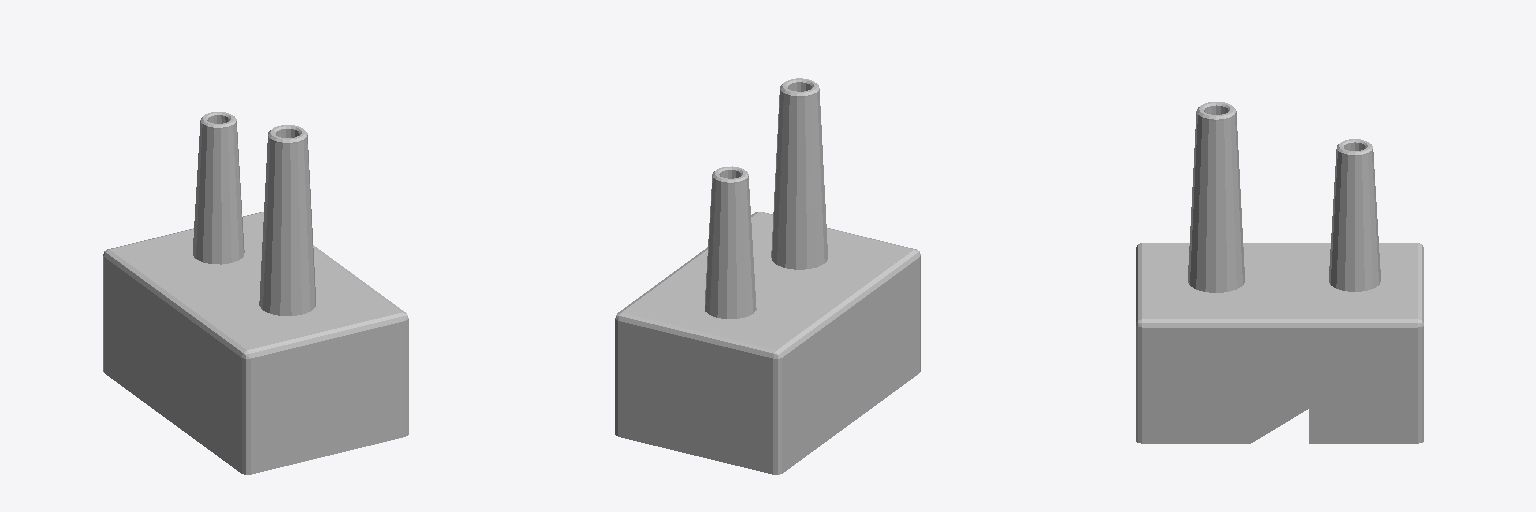
File: coal_generator.obj
3 renders of one model, left to right at view 1: azimuth 30°, elevation 25°; view 2: azimuth 150°, elevation 25°; view 3: azimuth 270°, elevation 25°, orthographic.
Visible parts, largest first — view 1: Cube; view 2: Cube; view 3: Cube.
Boxes of the visible parts, box(x1,y1,x2,y2) form: Cube: box(103, 112, 408, 474); Cube: box(615, 78, 920, 474); Cube: box(1136, 102, 1423, 443).
Size of the model in its own units: 1 by 1.69 by 1.5.